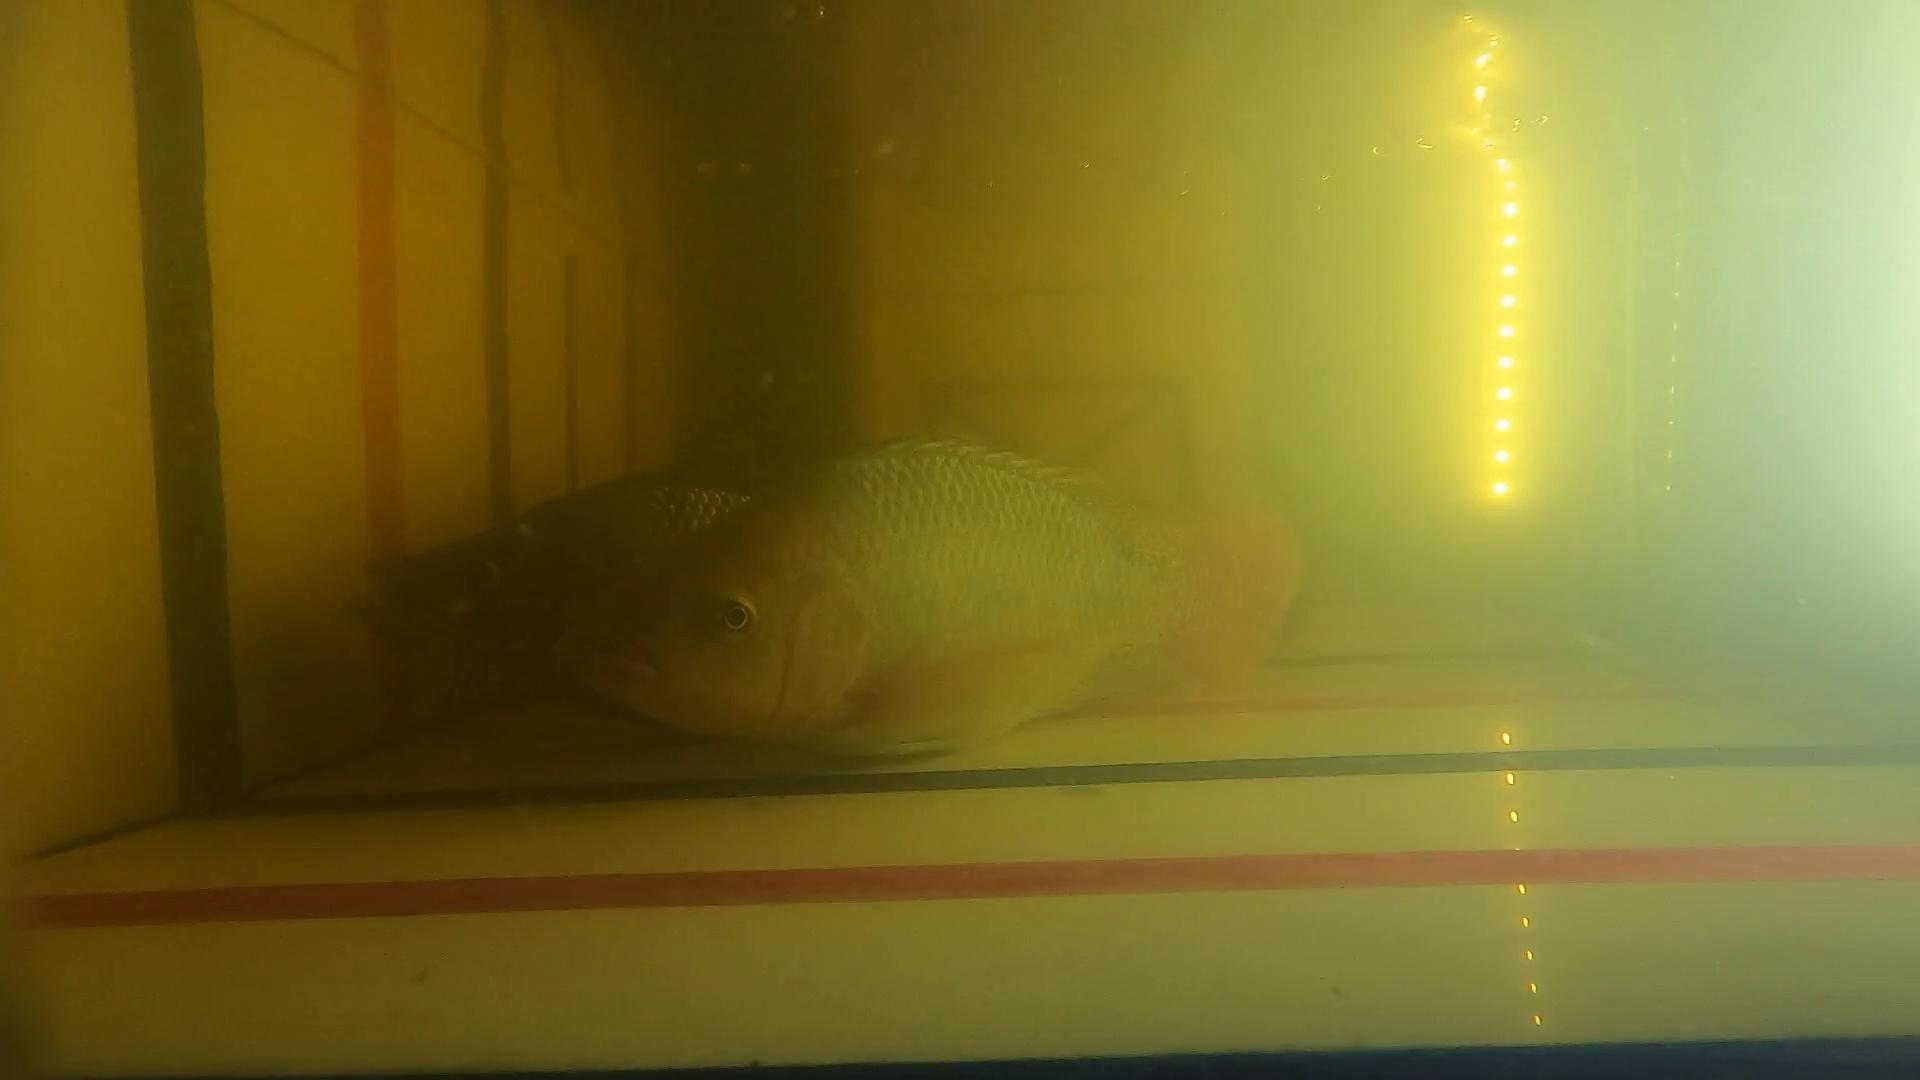Tilapia: (539, 438, 1313, 765)
